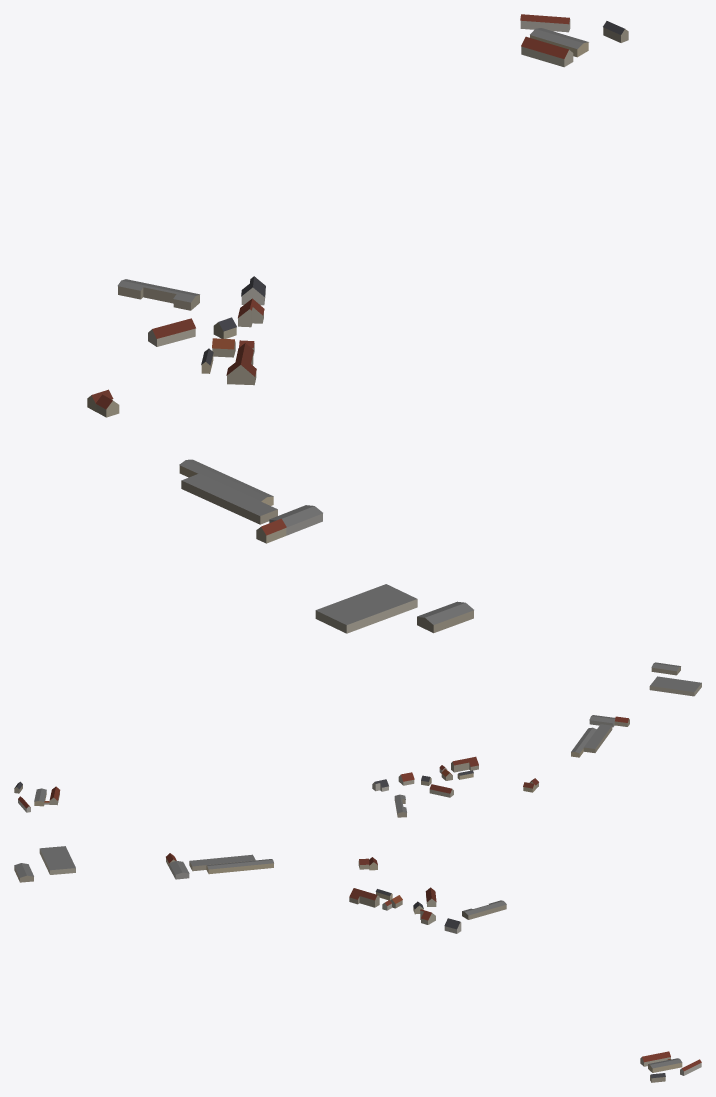
The picture shows the model from 3 angles, top to bottom: view 1: azimuth 30°, elevation 25°; view 2: azimuth 150°, elevation 25°; view 3: azimuth 270°, elevation 25°; orthographic projection. The views are drawn at different scales.
Parts seen in each view (by area): view 1: buildings; view 2: buildings; view 3: buildings.
Part boxes in pixels (x1,y1,x2,y2): buildings: (87, 14, 628, 633); buildings: (14, 662, 701, 817); buildings: (14, 846, 701, 1082).
Bounding box in the file's own units: 612 × 21.14 × 776.
